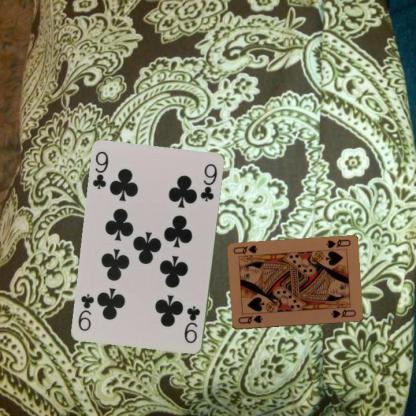9c: (182, 303, 202, 345), (90, 148, 110, 190)
Qs: (323, 237, 352, 249), (236, 313, 263, 325)
